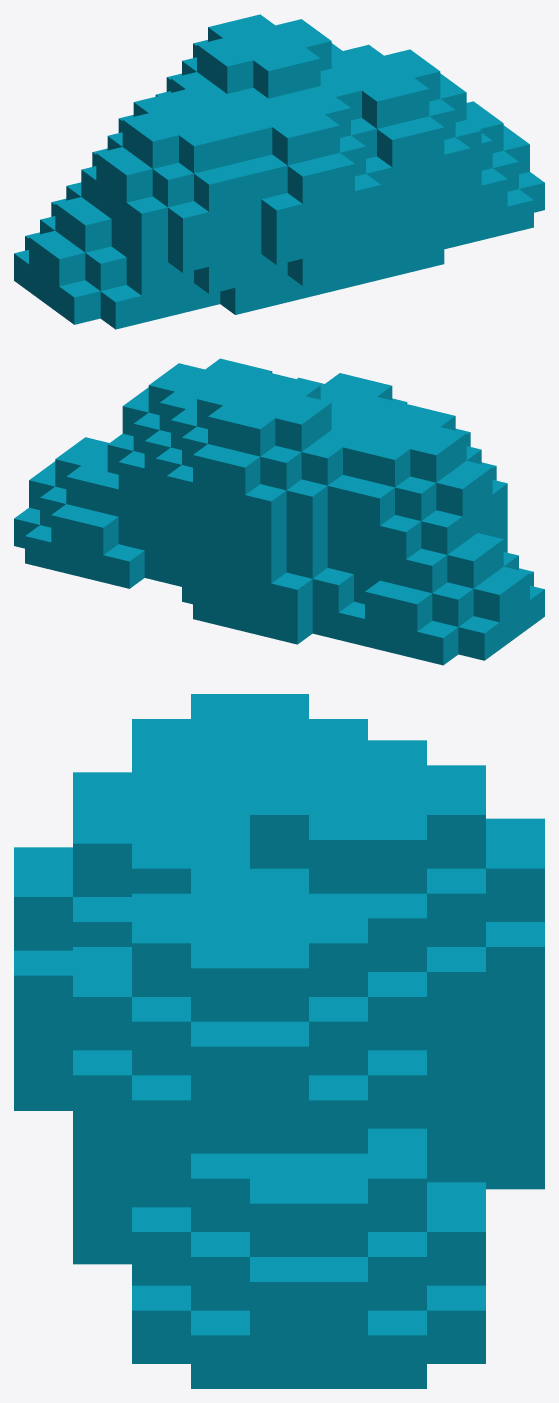
The model's file is IceBerries-7.obj.
The picture shows the model from 3 angles, top to bottom: view 1: azimuth 30°, elevation 25°; view 2: azimuth 150°, elevation 25°; view 3: azimuth 270°, elevation 25°; orthographic projection. The views are drawn at different scales.
Size of the model in its own units: 1.8 by 0.7 by 0.9.
Materials: 1 (1 with a texture image).
